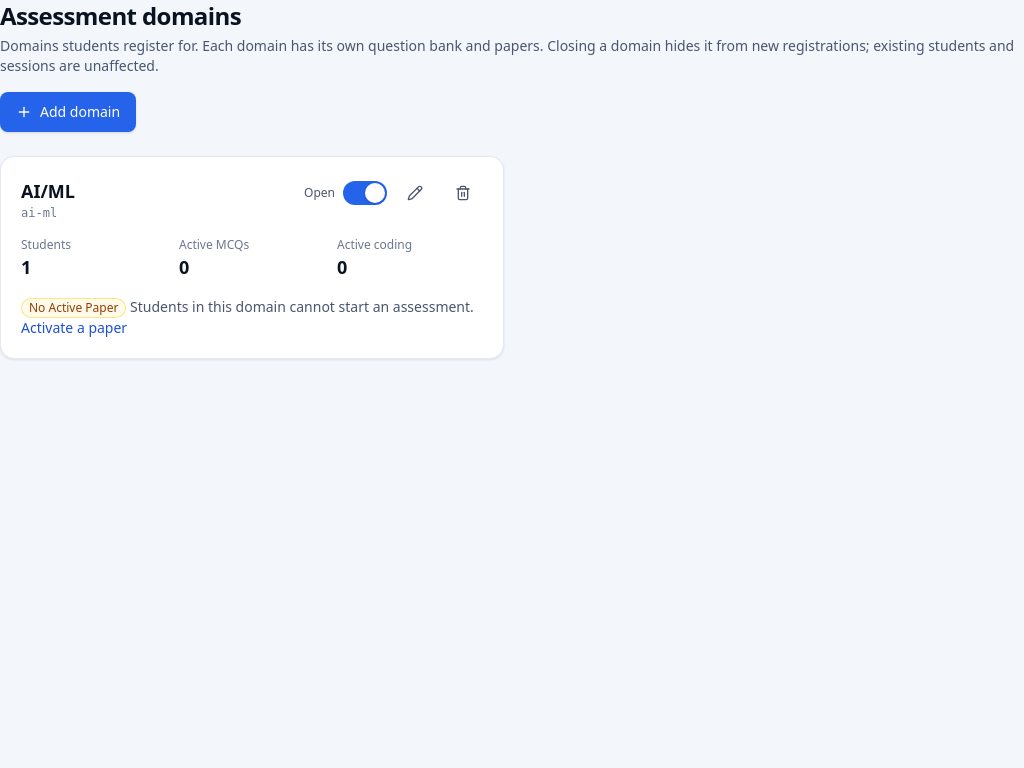
Scenario: DomainsPage delete › cannot be confirmed while a student of the domain is taking an assessment
What coordinates should you click on to do the following:
click the button named "Delete AI/ML"
I would click on:
 (463, 193)
Its box is x1=443 y1=177 x2=483 y2=209.
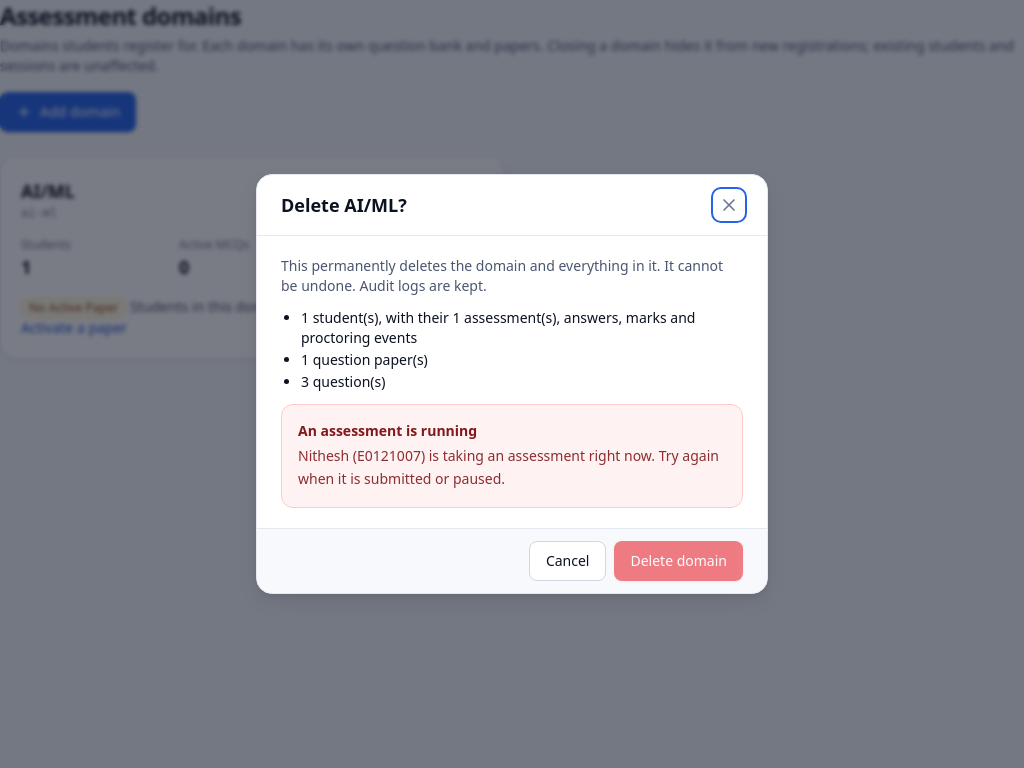
expect the text "Nithesh (E0121007) is taking an assessment right now" is shown: met, box x1=298 y1=445 x2=726 y2=491
expect the button "Delete domain" is disabled: met, box x1=614 y1=541 x2=743 y2=581
